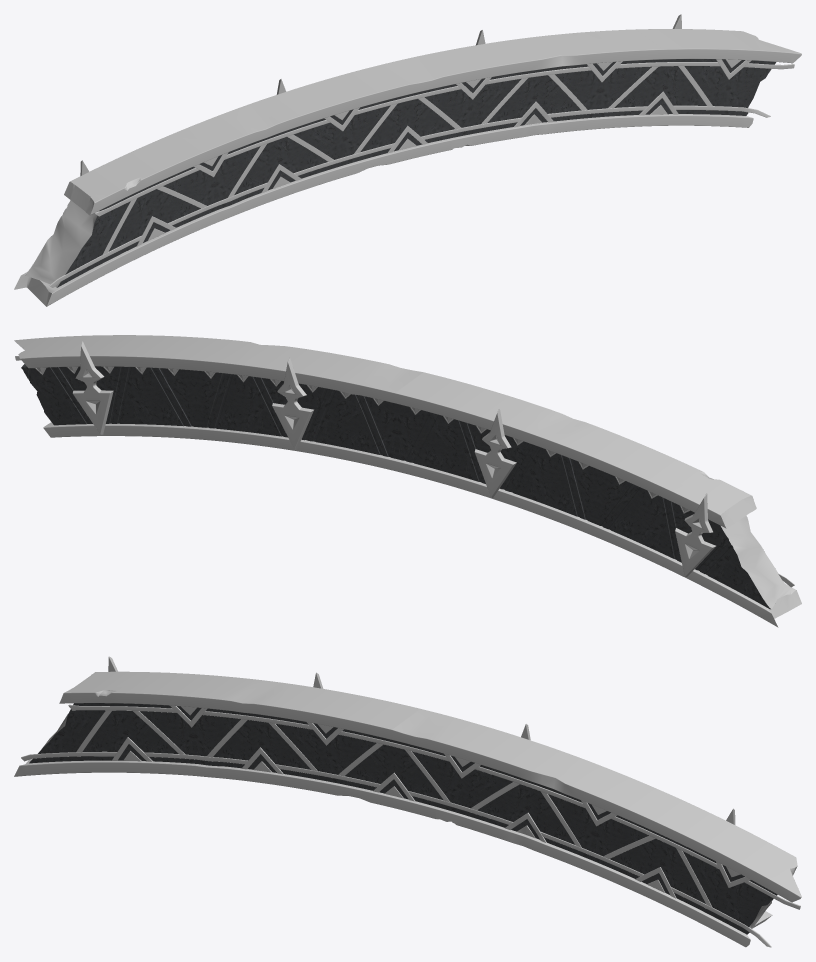
The picture shows the model from 3 angles, top to bottom: view 1: azimuth 30°, elevation 25°; view 2: azimuth 150°, elevation 25°; view 3: azimuth 330°, elevation 25°; orthographic projection. The views are drawn at different scales.
Parts seen in each view (by area): view 1: SM_Kuldras_Arena_Ring_Piece_01_LOD0; view 2: SM_Kuldras_Arena_Ring_Piece_01_LOD0; view 3: SM_Kuldras_Arena_Ring_Piece_01_LOD0.
Boxes of the visible parts, x1,y1,x2,y2 form: SM_Kuldras_Arena_Ring_Piece_01_LOD0: [14, 14, 801, 306]; SM_Kuldras_Arena_Ring_Piece_01_LOD0: [14, 335, 801, 627]; SM_Kuldras_Arena_Ring_Piece_01_LOD0: [14, 656, 801, 947].
Bounding box in the file's own units: 121 × 22.06 × 8.24.
